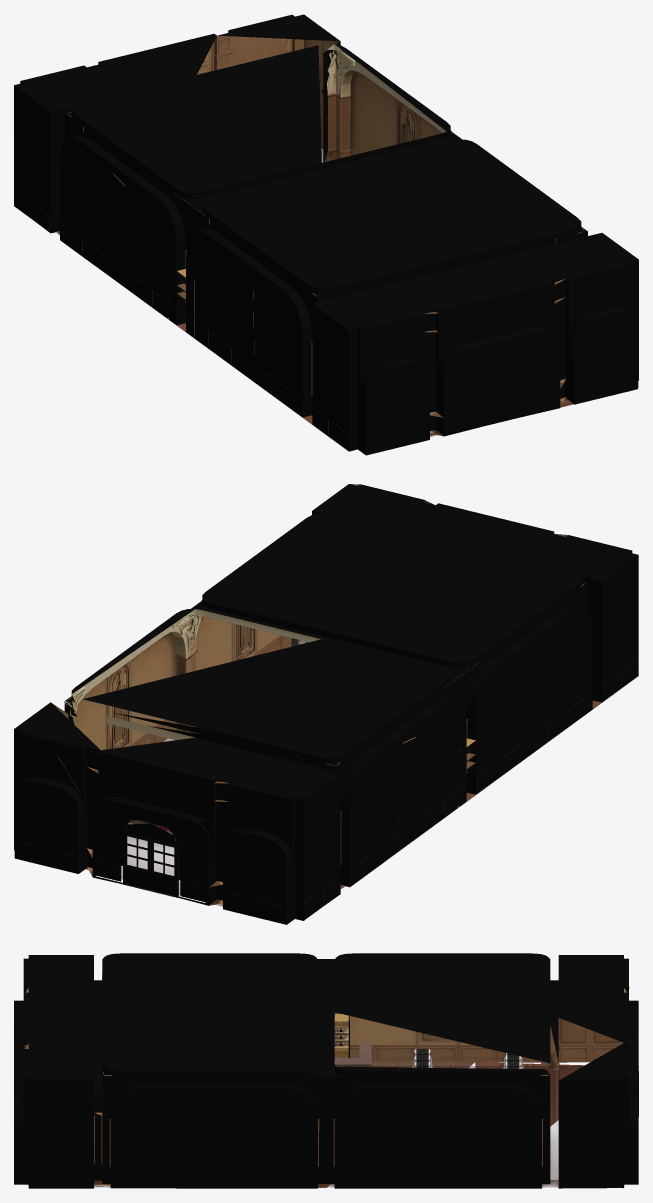
File: casino-no-tables-uncompressed.glb
The picture shows the model from 3 angles, top to bottom: view 1: azimuth 30°, elevation 25°; view 2: azimuth 150°, elevation 25°; view 3: azimuth 270°, elevation 25°; orthographic projection. The views are drawn at different scales.
Visible parts, largest first — view 1: Material2.001, Material3.004, Material3.006; view 2: Material2.001, Material3.004, Material3.006, Material3.007; view 3: Material2.001, Material3.004, Material3.006, Material3.007, Material3.005.
Part boxes in pixels (box(x1,y1,x2,y2)): Material2.001: box(14, 14, 638, 455); Material3.004: box(21, 35, 565, 436); Material3.006: box(56, 50, 584, 451); Material2.001: box(14, 484, 638, 924); Material3.004: box(14, 484, 625, 905); Material3.006: box(66, 584, 638, 888); Material3.007: box(85, 640, 306, 923); Material2.001: box(14, 953, 638, 1188); Material3.004: box(23, 988, 629, 1166); Material3.006: box(94, 973, 584, 1187); Material3.007: box(28, 1066, 638, 1187); Material3.005: box(414, 1049, 521, 1068).
Bounding box in the file's own units: 485 × 203 × 1017.
12 materials, 11 textured.
